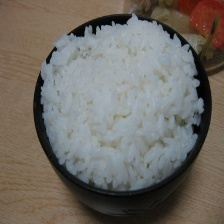rice: (39, 19, 204, 191)
